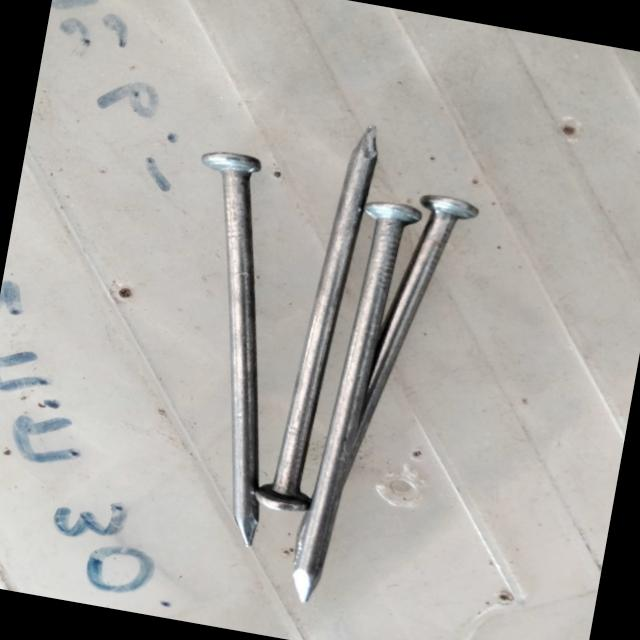3x8 nail: (241, 101, 504, 626), (96, 118, 334, 562)
